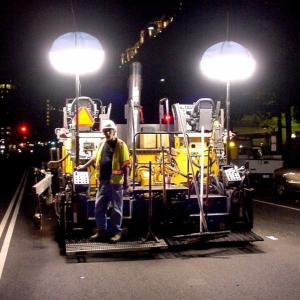white: (102, 121, 117, 142)
